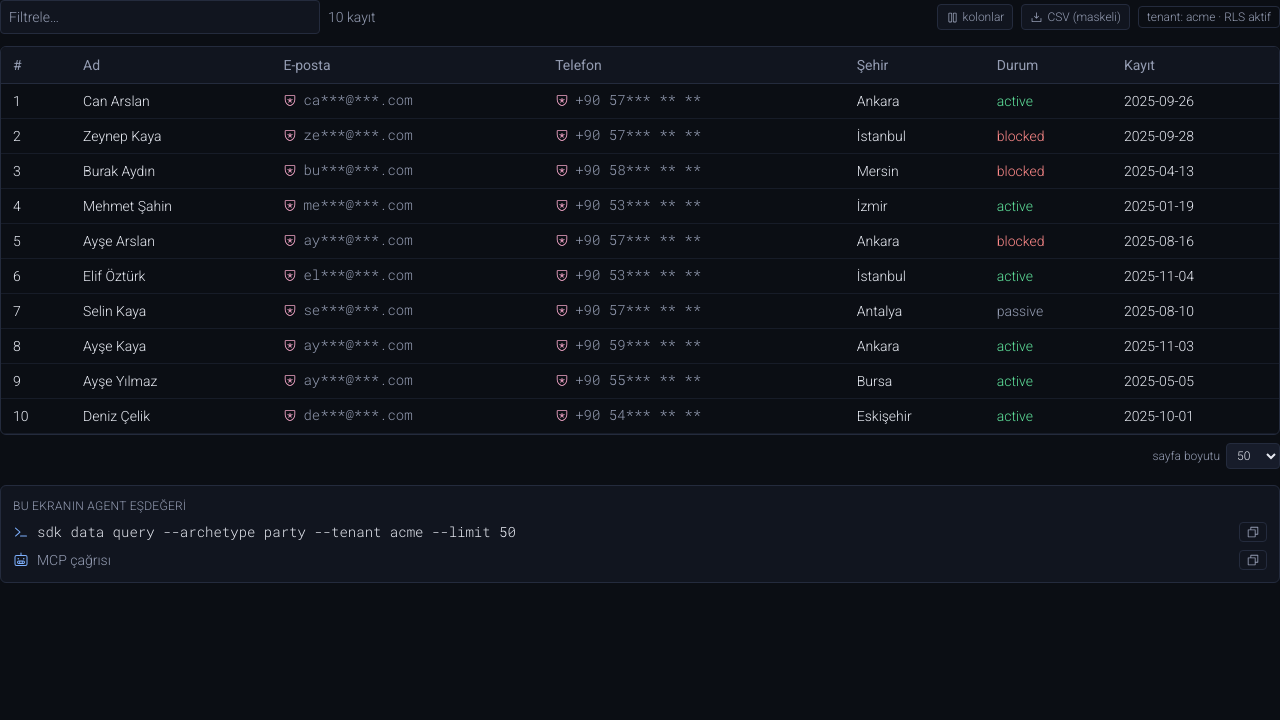
EntityTable — kolon menüsü ve satır detayı › satıra tıklayınca detay paneli açılır; PII maskeli + audit geçmişi
Click the cell "Can Arslan": point(116, 101) [71,84,271,118]
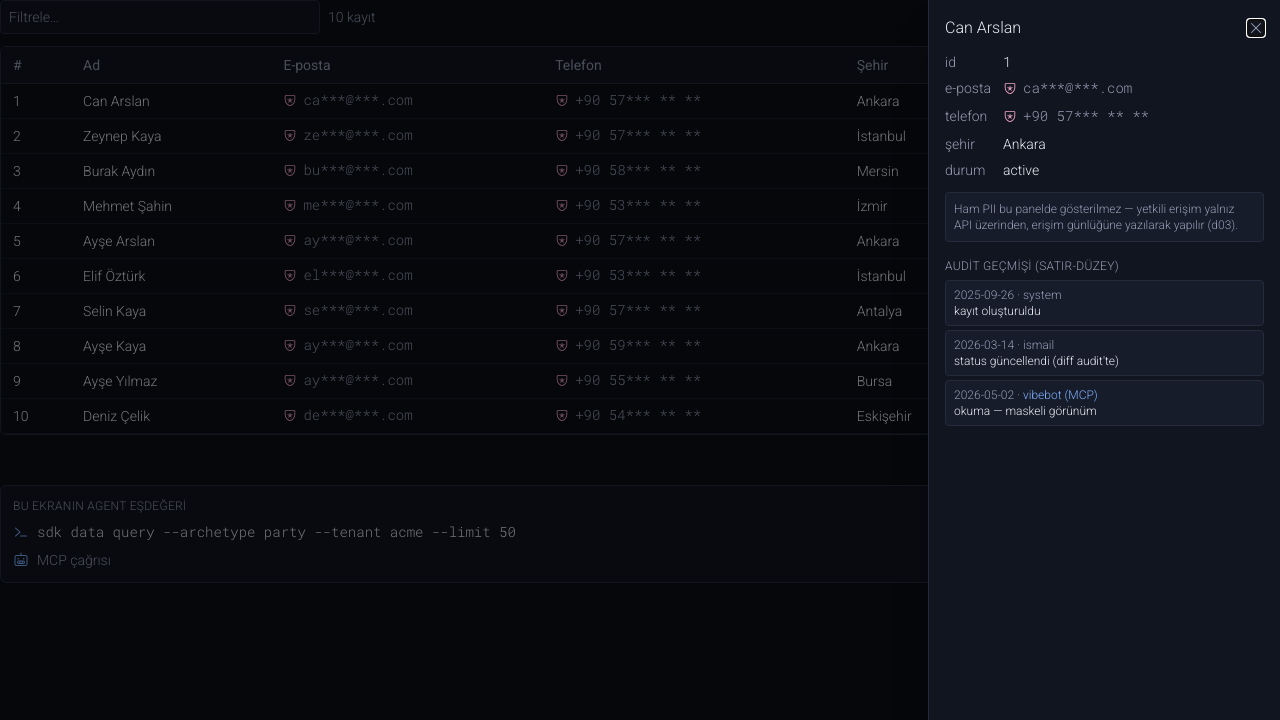
Result: the text "ca***@***.com" is shown at [1023,78,1132,98]
Result: the heading "Audit geçmişi (satır-düzey)" is shown at [945,259,1119,273]
